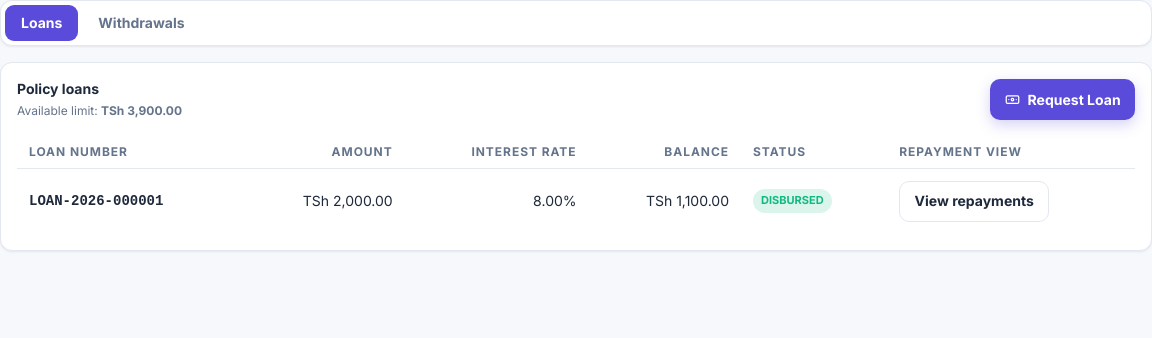
Test case: PolicyFinancialsTab › shows withdrawal warning and blocks an amount above available cash value
Later steps or results of the test are not shown.
Click the button "Withdrawals" at [141, 23], box [82,5,201,41]
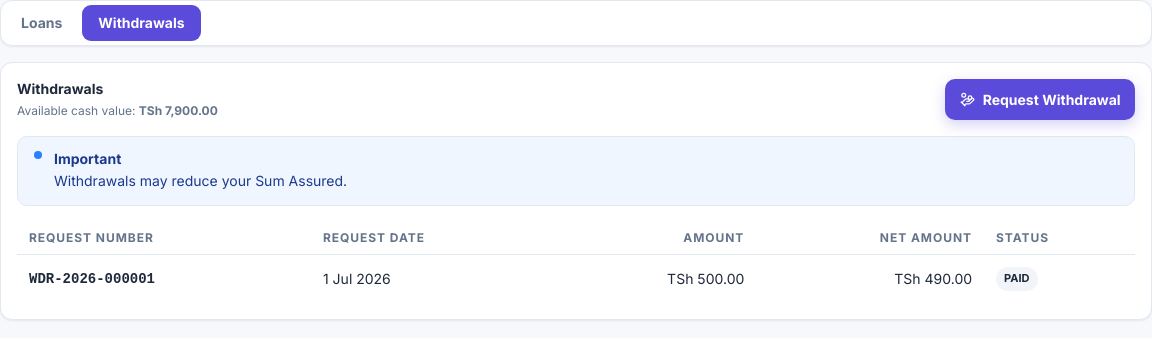
Expected: the heading "Withdrawals" is shown, [17,80,103,97]
Expected: the text "Withdrawals may reduce your Sum Assured." is shown, [54,169,347,193]
